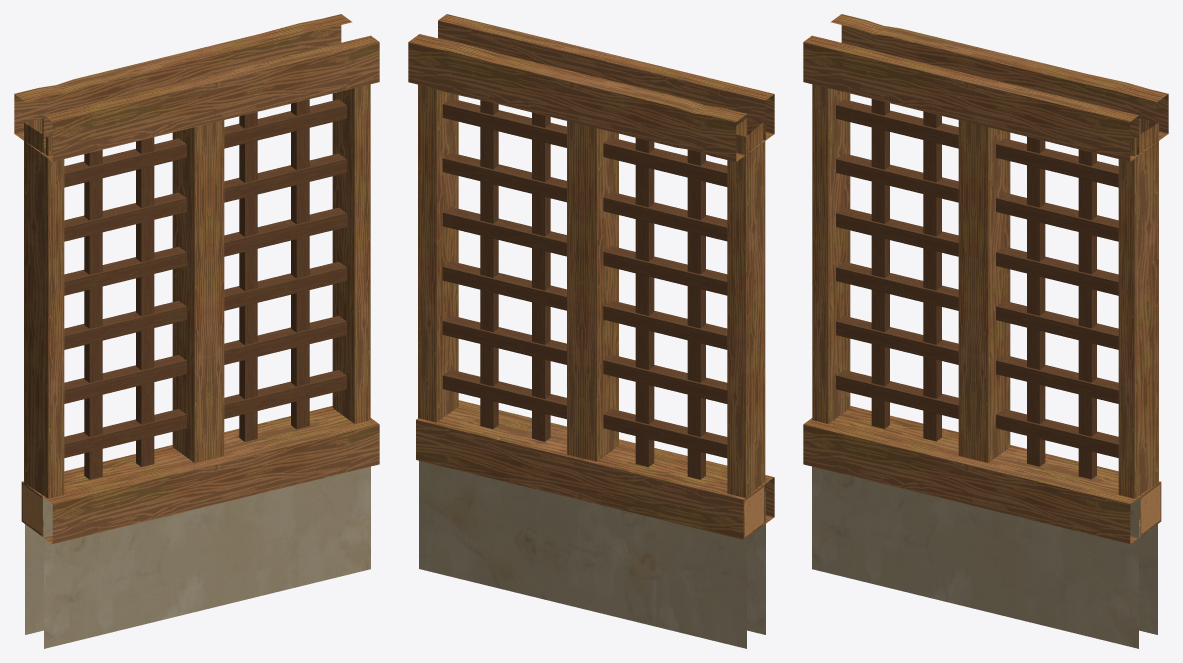
The model's file is Wall_Plaster_WoodGrid.gltf.
3 views of the same model, side by side, from view 1: azimuth 30°, elevation 25°; view 2: azimuth 150°, elevation 25°; view 3: azimuth 330°, elevation 25° (orthographic).
Visible parts, largest first — view 1: Wall_Plaster_WoodGrid; view 2: Wall_Plaster_WoodGrid; view 3: Wall_Plaster_WoodGrid.
Boxes of the visible parts, x1=… form: Wall_Plaster_WoodGrid: x1=14, y1=14, x2=379, y2=648; Wall_Plaster_WoodGrid: x1=408, y1=14, x2=774, y2=648; Wall_Plaster_WoodGrid: x1=803, y1=14, x2=1168, y2=648.
Bounding box in the file's own units: 2 × 3.12 × 0.4065.
2 materials, 2 textured.
